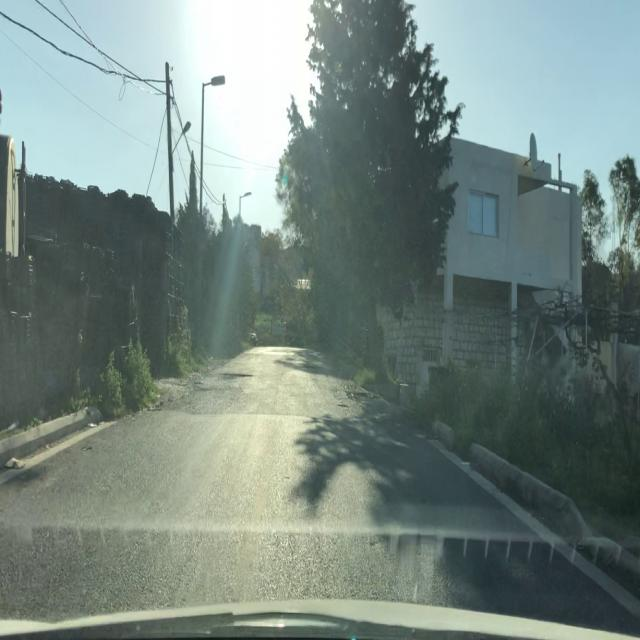Pothole: (352, 389, 379, 401), (218, 373, 254, 378), (335, 402, 350, 410)
